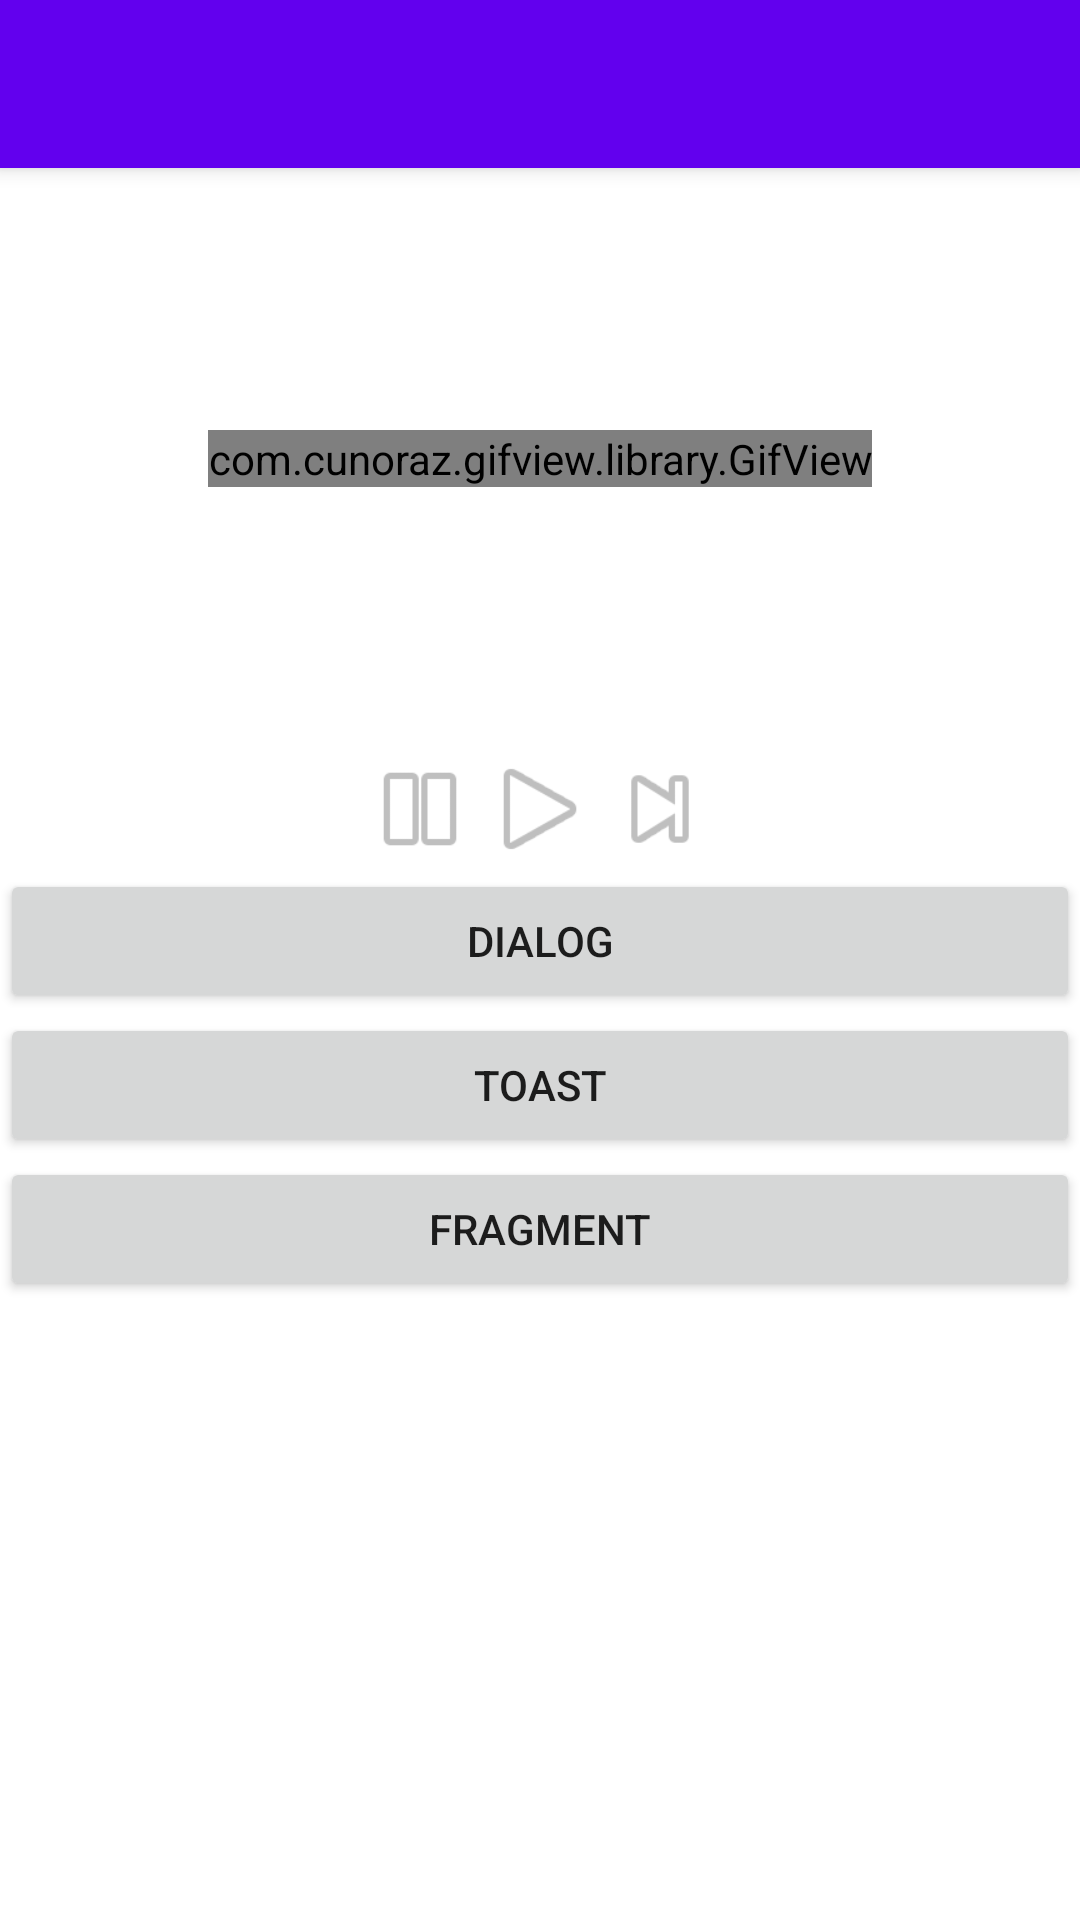

Screen size 1080x1920. Icon name, then its center in pixels as (x,y):
next: (660,809)
pause: (420,809)
play: (540,809)
